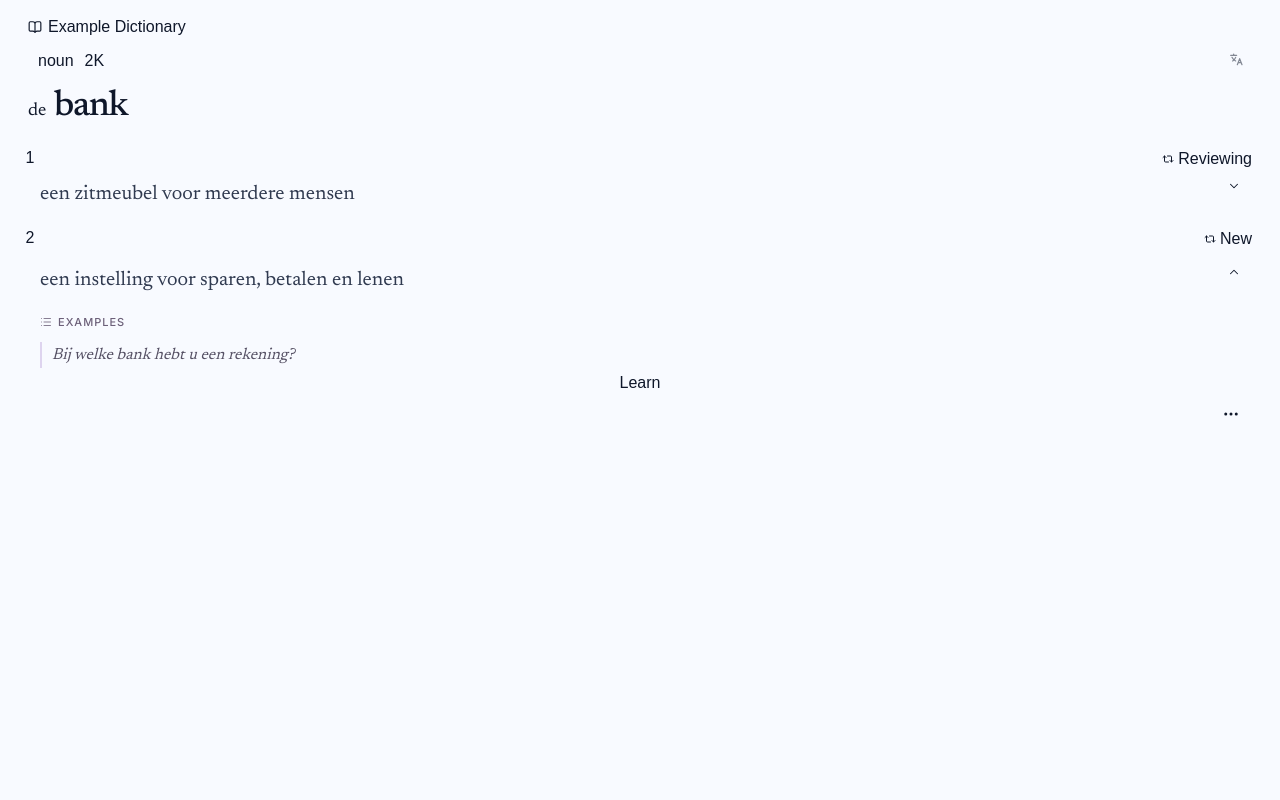
Test: Library word exclusion menu is read-only until the explicit localized action (en)
Click the button named "More card actions".
click(1231, 414)  # box [1222, 400, 1240, 428]
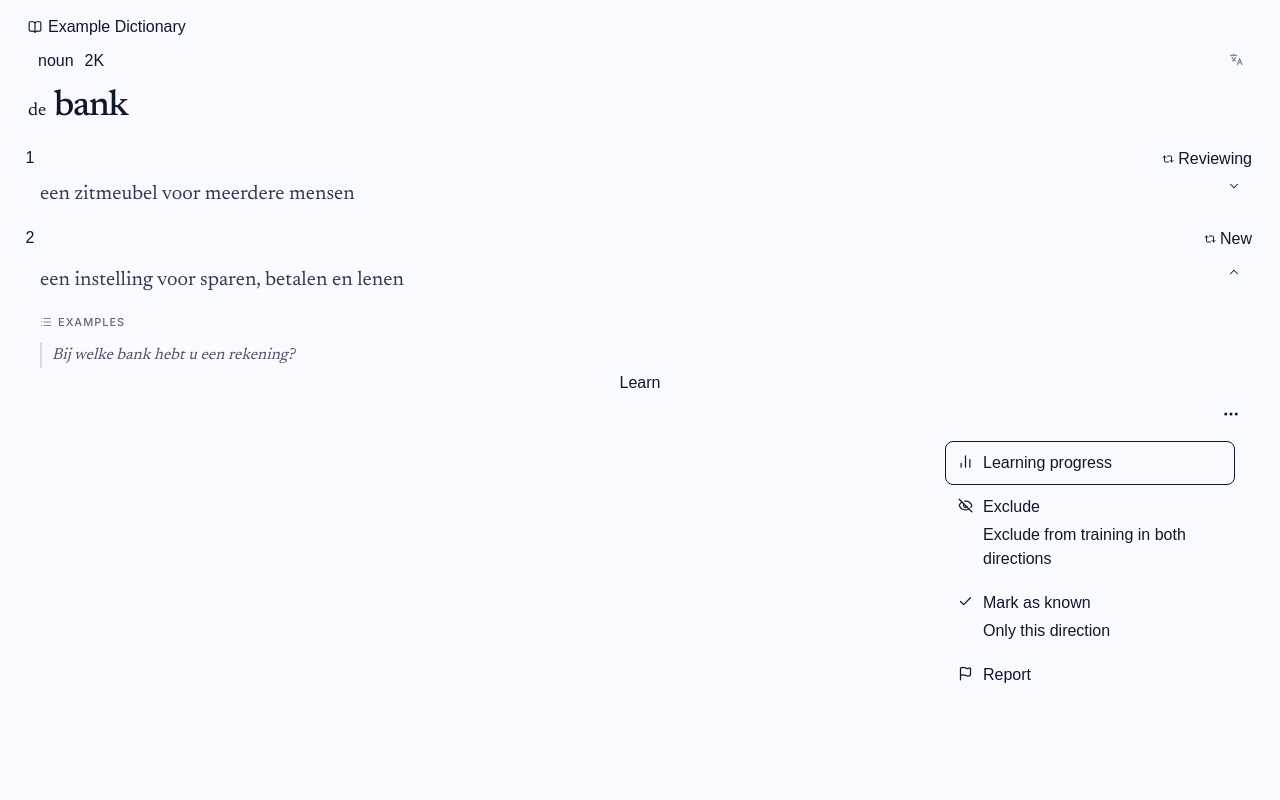
Expected: the number of menu items is 4
Click the menu item "Exclude".
click(1090, 533)  # box [945, 485, 1235, 581]
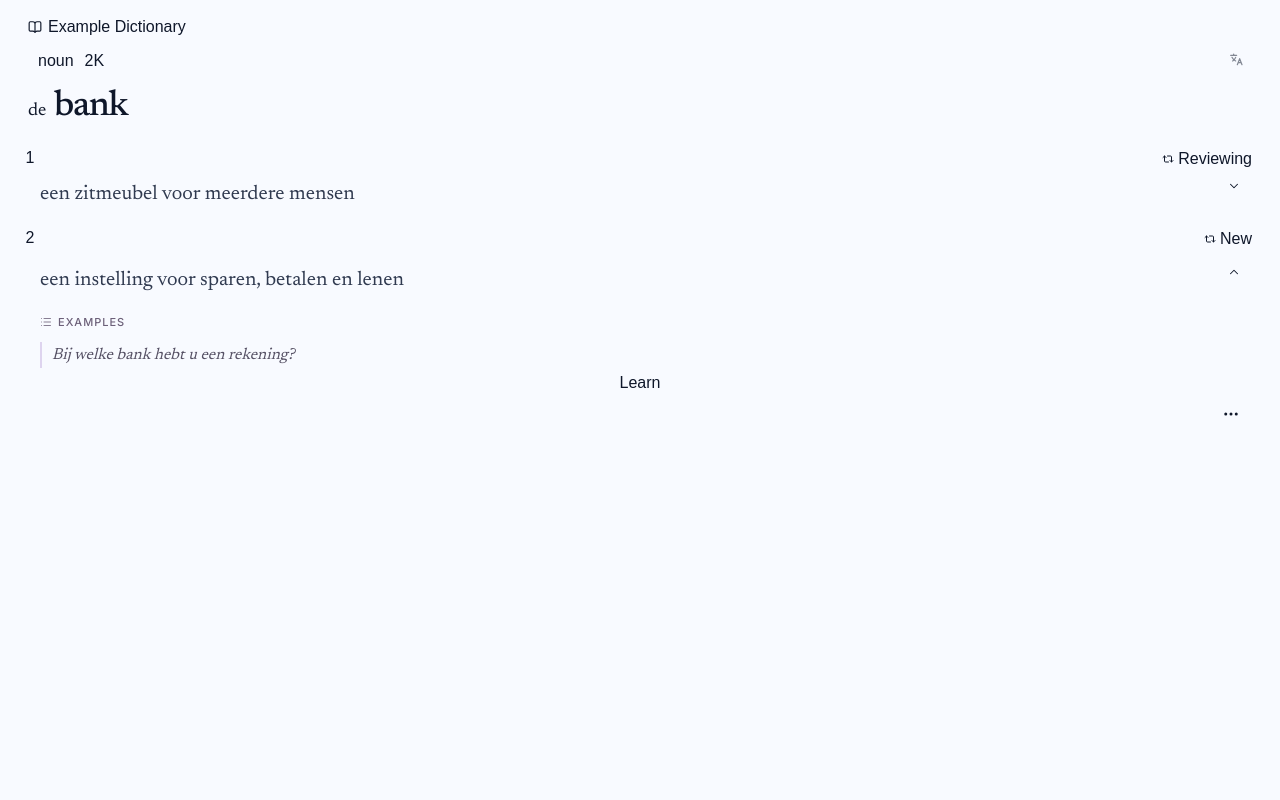
Expected: the menu is gone
